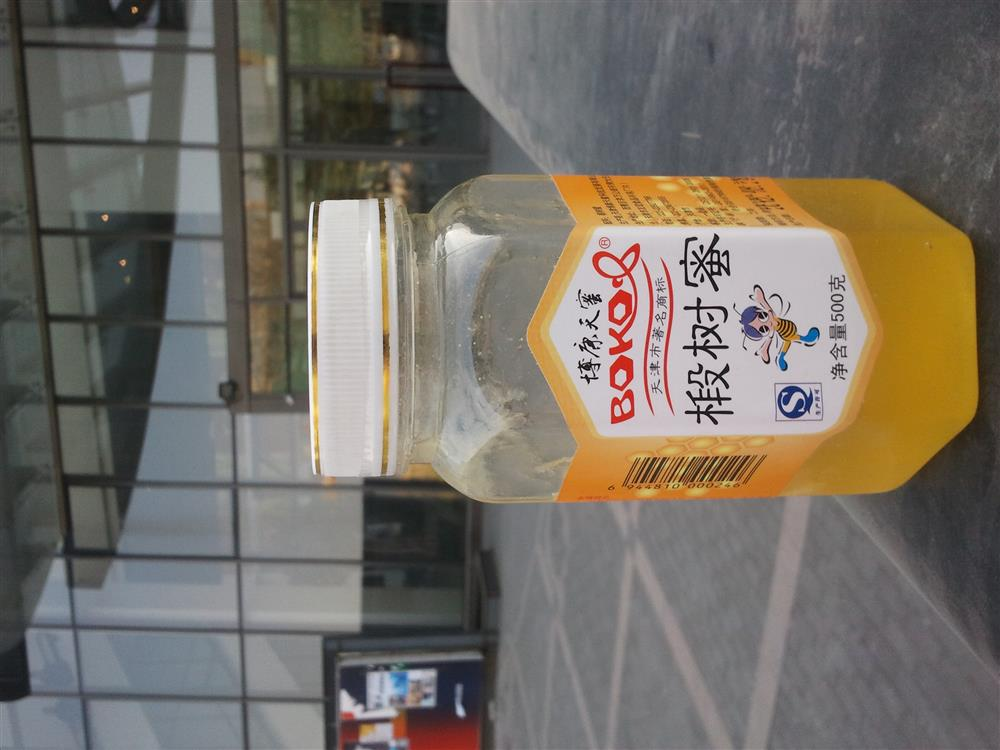Linden_honey: (310, 176, 978, 497)
